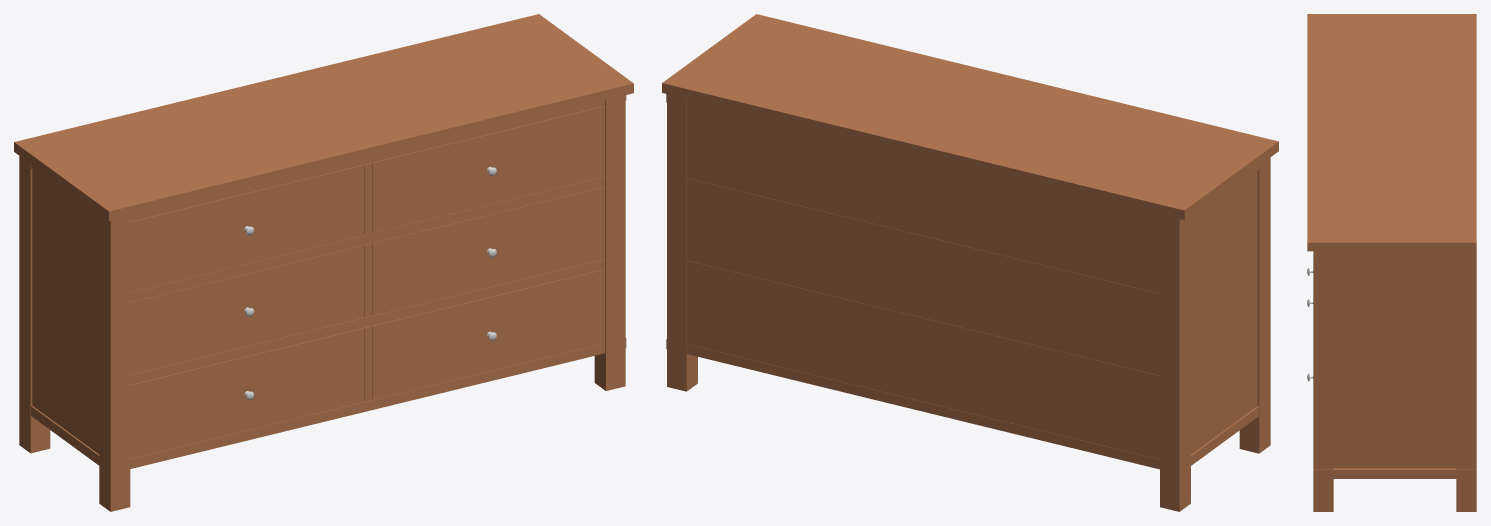
The picture shows the model from 3 angles, left to right: view 1: azimuth 30°, elevation 25°; view 2: azimuth 150°, elevation 25°; view 3: azimuth 270°, elevation 25°; orthographic projection. The views are drawn at different scales.
Visible parts, largest first — view 1: Box22757; view 2: Box22757; view 3: Box22757.
Part boxes in pixels (x1,y1,x2,y2): Box22757: (14, 14, 633, 511); Box22757: (662, 14, 1278, 511); Box22757: (1307, 14, 1476, 511).
Size of the model in its own units: 1.2 by 0.3763 by 0.6652.
